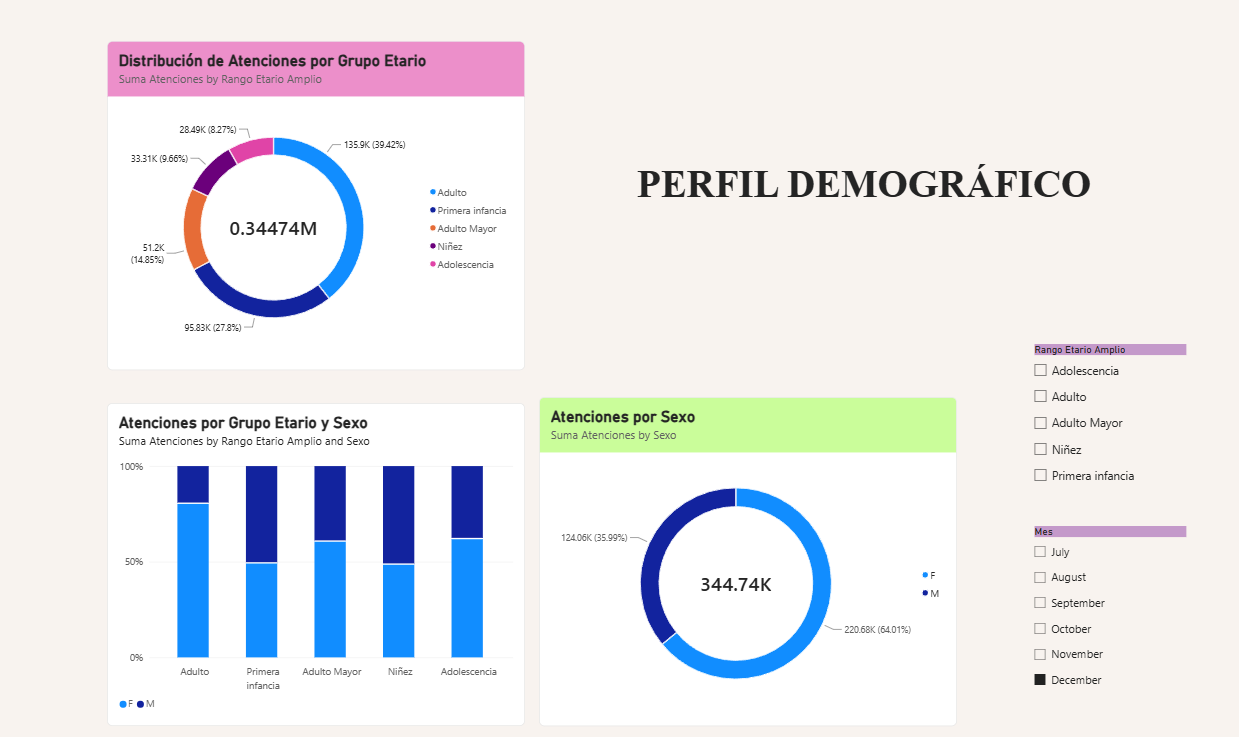

The page's visual inventory and layout, read from the dashboard file:
{"tool":"powerbi","page":{"name":"Perfil demográfico","canvas":[1920,1080],"ordinal":2},"visuals":[{"type":"donutChart","title":"Distribución de Atenciones por Grupo Etario","fields":{"Category":["Dim Grupo Edad.Rango Etario Amplio"],"Y":["Fact Atenciones.Suma Atenciones"]},"box":[242.3,64.9,602.5,475],"z":0},{"type":"donutChart","title":"Atenciones por Sexo","fields":{"Category":["Dim Sexo.Sexo"],"Y":["Fact Atenciones.Suma Atenciones"]},"box":[865.5,578.5,603,475],"z":1000},{"type":"hundredPercentStackedColumnChart","title":"Atenciones por Grupo Etario y Sexo","fields":{"Category":["Dim Grupo Edad.Rango Etario Amplio"],"Series":["Dim Sexo.Sexo"],"Y":["Fact Atenciones.Suma Atenciones"]},"box":[242.3,587.1,603,465.9],"z":2000},{"type":"slicer","fields":{"Values":["Dim Tiempo.Jerarquia Tiempo.Mes"]},"box":[1572.4,764.5,235.3,250.7],"z":3000},{"type":"slicer","fields":{"Values":["Dim Grupo Edad.Rango Etario Amplio"]},"box":[1572.4,502,235.1,217.8],"z":4000},{"type":"textbox","box":[1006.9,239.5,683.8,82.2],"z":4001}]}

Visuals, with their boxes on the page's 1920x1080 design canvas (x1, y1, x2, y2). These are canvas units, not pixel positions in the 1239x737 screenshot, which may show the page scaled, cropped or inside an application window:
"Distribución de Atenciones por Grupo Etario" donutChart: (242,65,845,540)
"Atenciones por Sexo" donutChart: (866,578,1468,1054)
"Atenciones por Grupo Etario y Sexo" hundredPercentStackedColumnChart: (242,587,845,1053)
slicer - Dim Tiempo.Jerarquia Tiempo.Mes: (1572,764,1808,1015)
slicer - Dim Grupo Edad.Rango Etario Amplio: (1572,502,1808,720)
textbox: (1007,240,1691,322)
